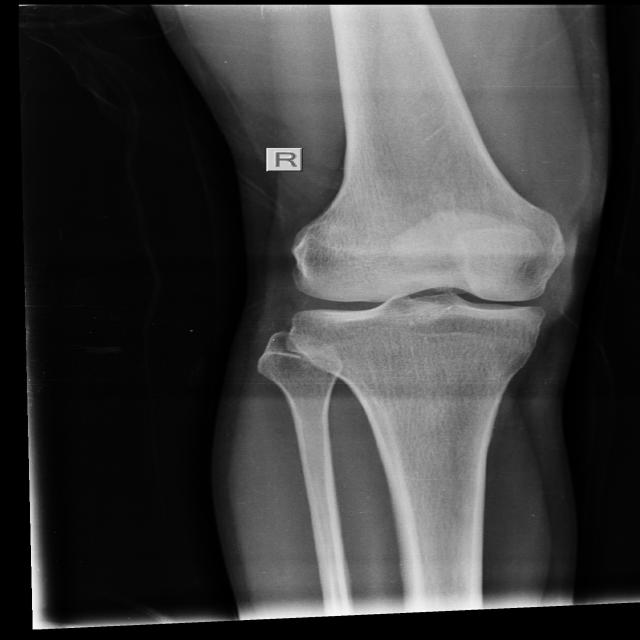normal: (280, 212, 572, 351)
